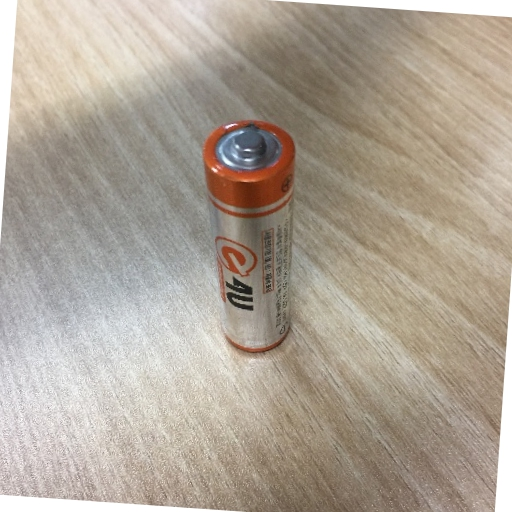Battery_0: (191, 106, 309, 367)
